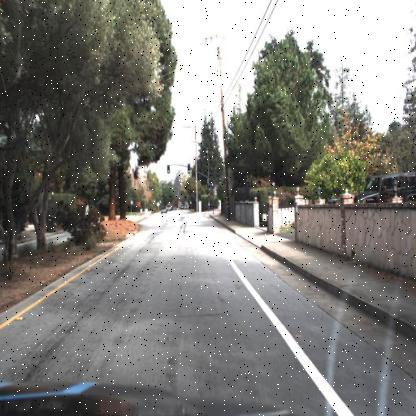car: (160, 204, 168, 218)
trafficLight-Green: (164, 161, 172, 177), (209, 176, 217, 192), (186, 160, 192, 176)
